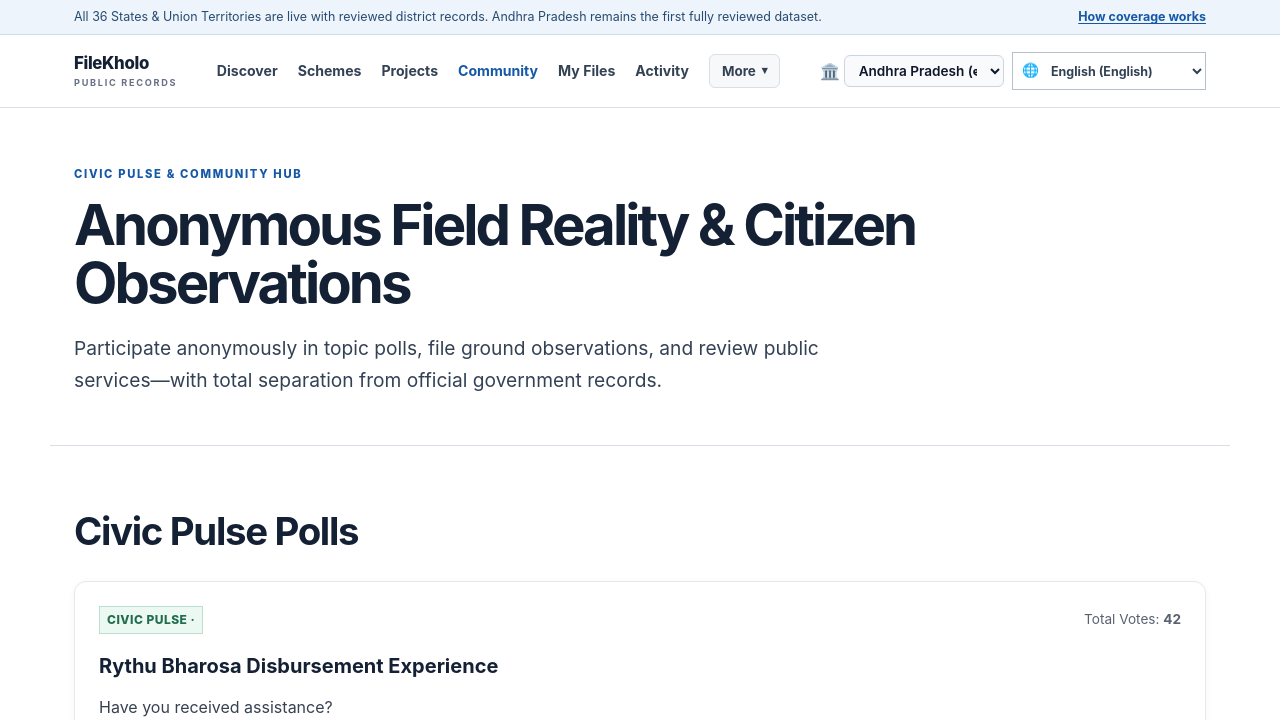
Test: CommunityContent › switches community copy to Telugu
Select "తెలుగు (Telugu)" in the dropdown named "Select language" at (1122, 71), box [1039,53,1205,89]
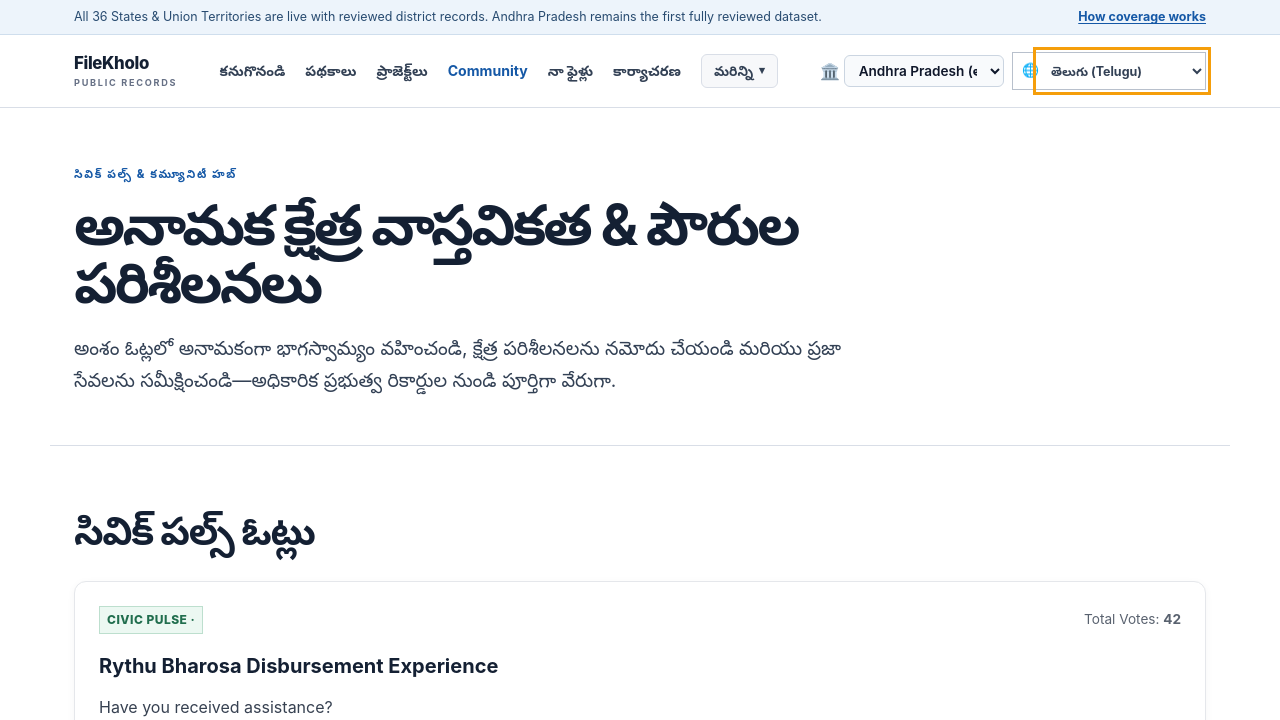
Now the heading "అనామక క్షేత్ర వాస్తవికత & పౌరుల పరిశీలనలు" is shown, box [74,190,798,317]
